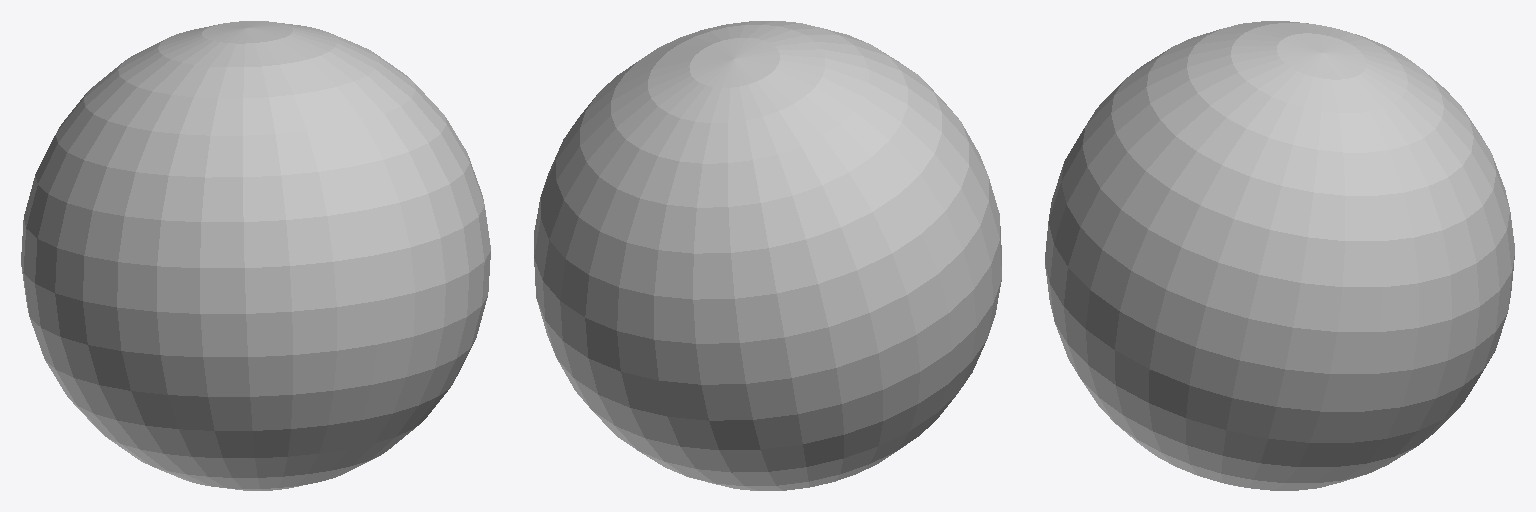
File: ball.obj
3 views of the same model, side by side, from view 1: azimuth 30°, elevation 25°; view 2: azimuth 150°, elevation 25°; view 3: azimuth 270°, elevation 25° (orthographic).
Parts seen in each view (by area): view 1: Sphere; view 2: Sphere; view 3: Sphere.
Part boxes in pixels (bbox=[...]): Sphere: bbox=[21, 21, 490, 490]; Sphere: bbox=[534, 21, 1001, 490]; Sphere: bbox=[1045, 21, 1514, 490].
Bounding box in the file's own units: 0.5575 × 0.5588 × 0.5586.